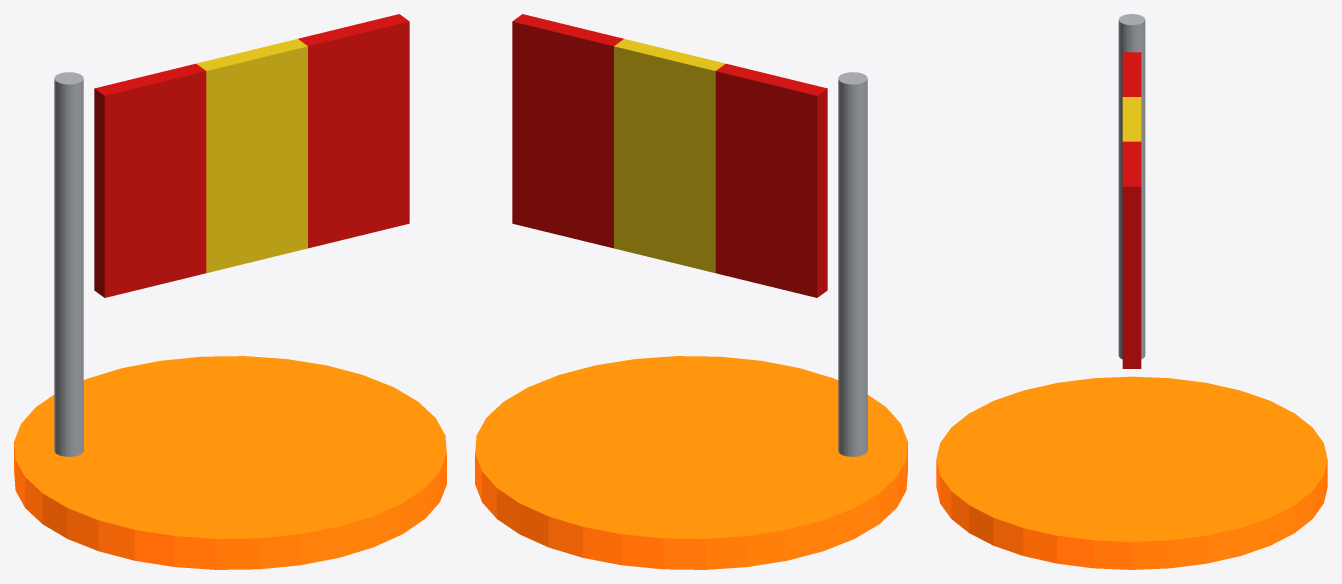
Rendered from spanish_spain_flag.dae.
3 renders of one model, left to right at view 1: azimuth 30°, elevation 25°; view 2: azimuth 150°, elevation 25°; view 3: azimuth 270°, elevation 25°, orthographic. The views are drawn at different scales.
Parts seen in each view (by area): view 1: 11_01_Popular_Spanish_Spain_Flag_ROOT_base, 11_01_Popular_Spanish_Spain_Flag_part_02, 11_01_Popular_Spanish_Spain_Flag_part_04, 11_01_Popular_Spanish_Spain_Flag_part_03, 11_01_Popular_Spanish_Spain_Flag_part_01; view 2: 11_01_Popular_Spanish_Spain_Flag_ROOT_base, 11_01_Popular_Spanish_Spain_Flag_part_02, 11_01_Popular_Spanish_Spain_Flag_part_04, 11_01_Popular_Spanish_Spain_Flag_part_03, 11_01_Popular_Spanish_Spain_Flag_part_01; view 3: 11_01_Popular_Spanish_Spain_Flag_ROOT_base, 11_01_Popular_Spanish_Spain_Flag_part_04, 11_01_Popular_Spanish_Spain_Flag_part_01, 11_01_Popular_Spanish_Spain_Flag_part_02, 11_01_Popular_Spanish_Spain_Flag_part_03.
Part boxes in pixels (x1=…): 11_01_Popular_Spanish_Spain_Flag_ROOT_base: x1=14, y1=356, x2=446, y2=569; 11_01_Popular_Spanish_Spain_Flag_part_02: x1=94, y1=63, x2=206, y2=297; 11_01_Popular_Spanish_Spain_Flag_part_04: x1=298, y1=14, x2=409, y2=248; 11_01_Popular_Spanish_Spain_Flag_part_03: x1=196, y1=39, x2=307, y2=272; 11_01_Popular_Spanish_Spain_Flag_part_01: x1=54, y1=72, x2=83, y2=456; 11_01_Popular_Spanish_Spain_Flag_ROOT_base: x1=475, y1=356, x2=907, y2=569; 11_01_Popular_Spanish_Spain_Flag_part_02: x1=715, y1=63, x2=827, y2=297; 11_01_Popular_Spanish_Spain_Flag_part_04: x1=512, y1=14, x2=623, y2=248; 11_01_Popular_Spanish_Spain_Flag_part_03: x1=614, y1=39, x2=725, y2=272; 11_01_Popular_Spanish_Spain_Flag_part_01: x1=838, y1=72, x2=867, y2=456; 11_01_Popular_Spanish_Spain_Flag_ROOT_base: x1=936, y1=376, x2=1327, y2=569; 11_01_Popular_Spanish_Spain_Flag_part_04: x1=1122, y1=141, x2=1141, y2=368; 11_01_Popular_Spanish_Spain_Flag_part_01: x1=1118, y1=14, x2=1145, y2=359; 11_01_Popular_Spanish_Spain_Flag_part_02: x1=1122, y1=52, x2=1141, y2=96; 11_01_Popular_Spanish_Spain_Flag_part_03: x1=1122, y1=97, x2=1141, y2=141.
Size of the model in its own units: 0.76 by 0.85 by 0.76.
